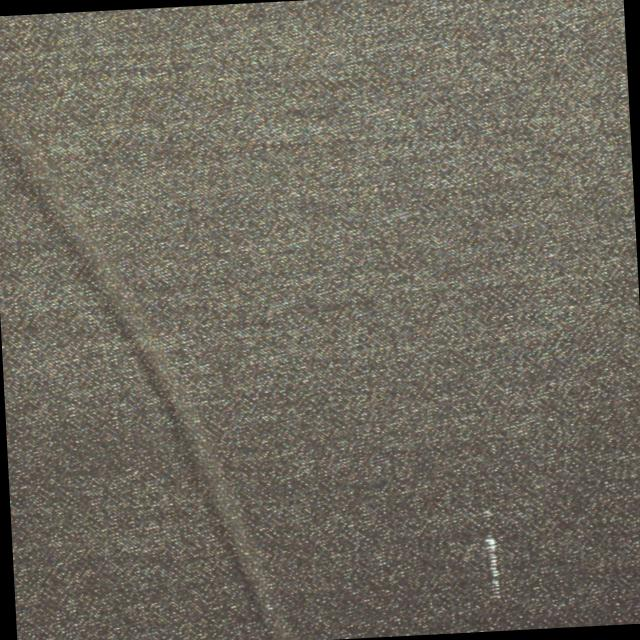Warp_Weft: (483, 536, 502, 602)
